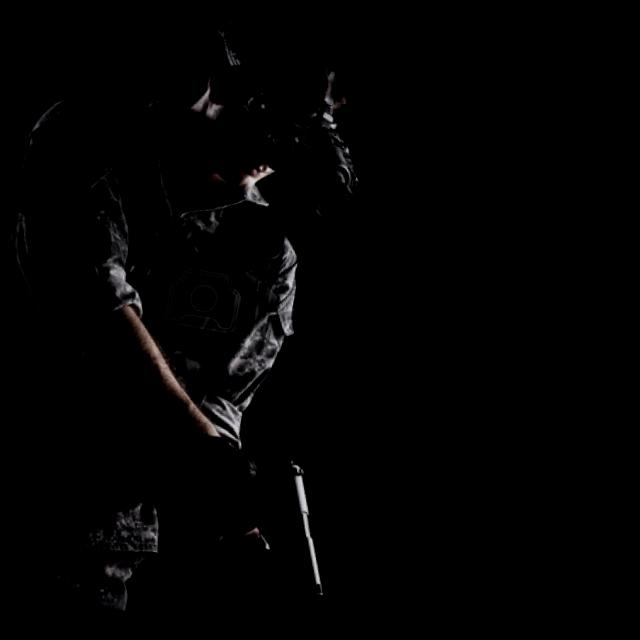handgun: (193, 430, 370, 607)
